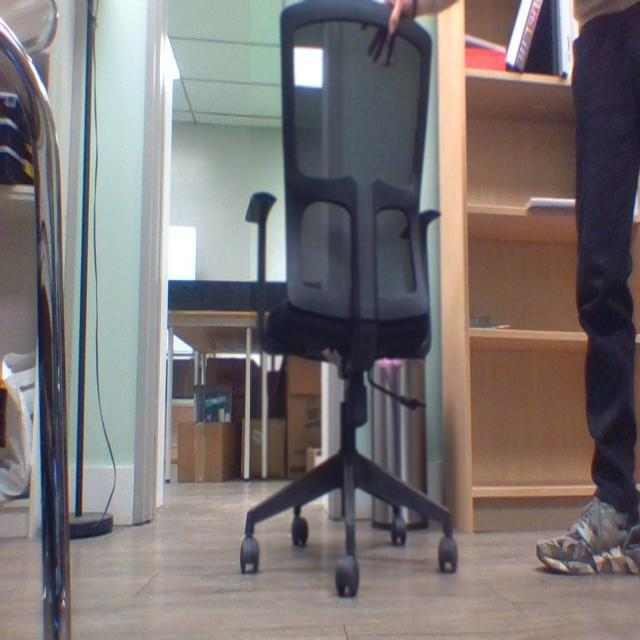chair: (250, 0, 466, 598)
